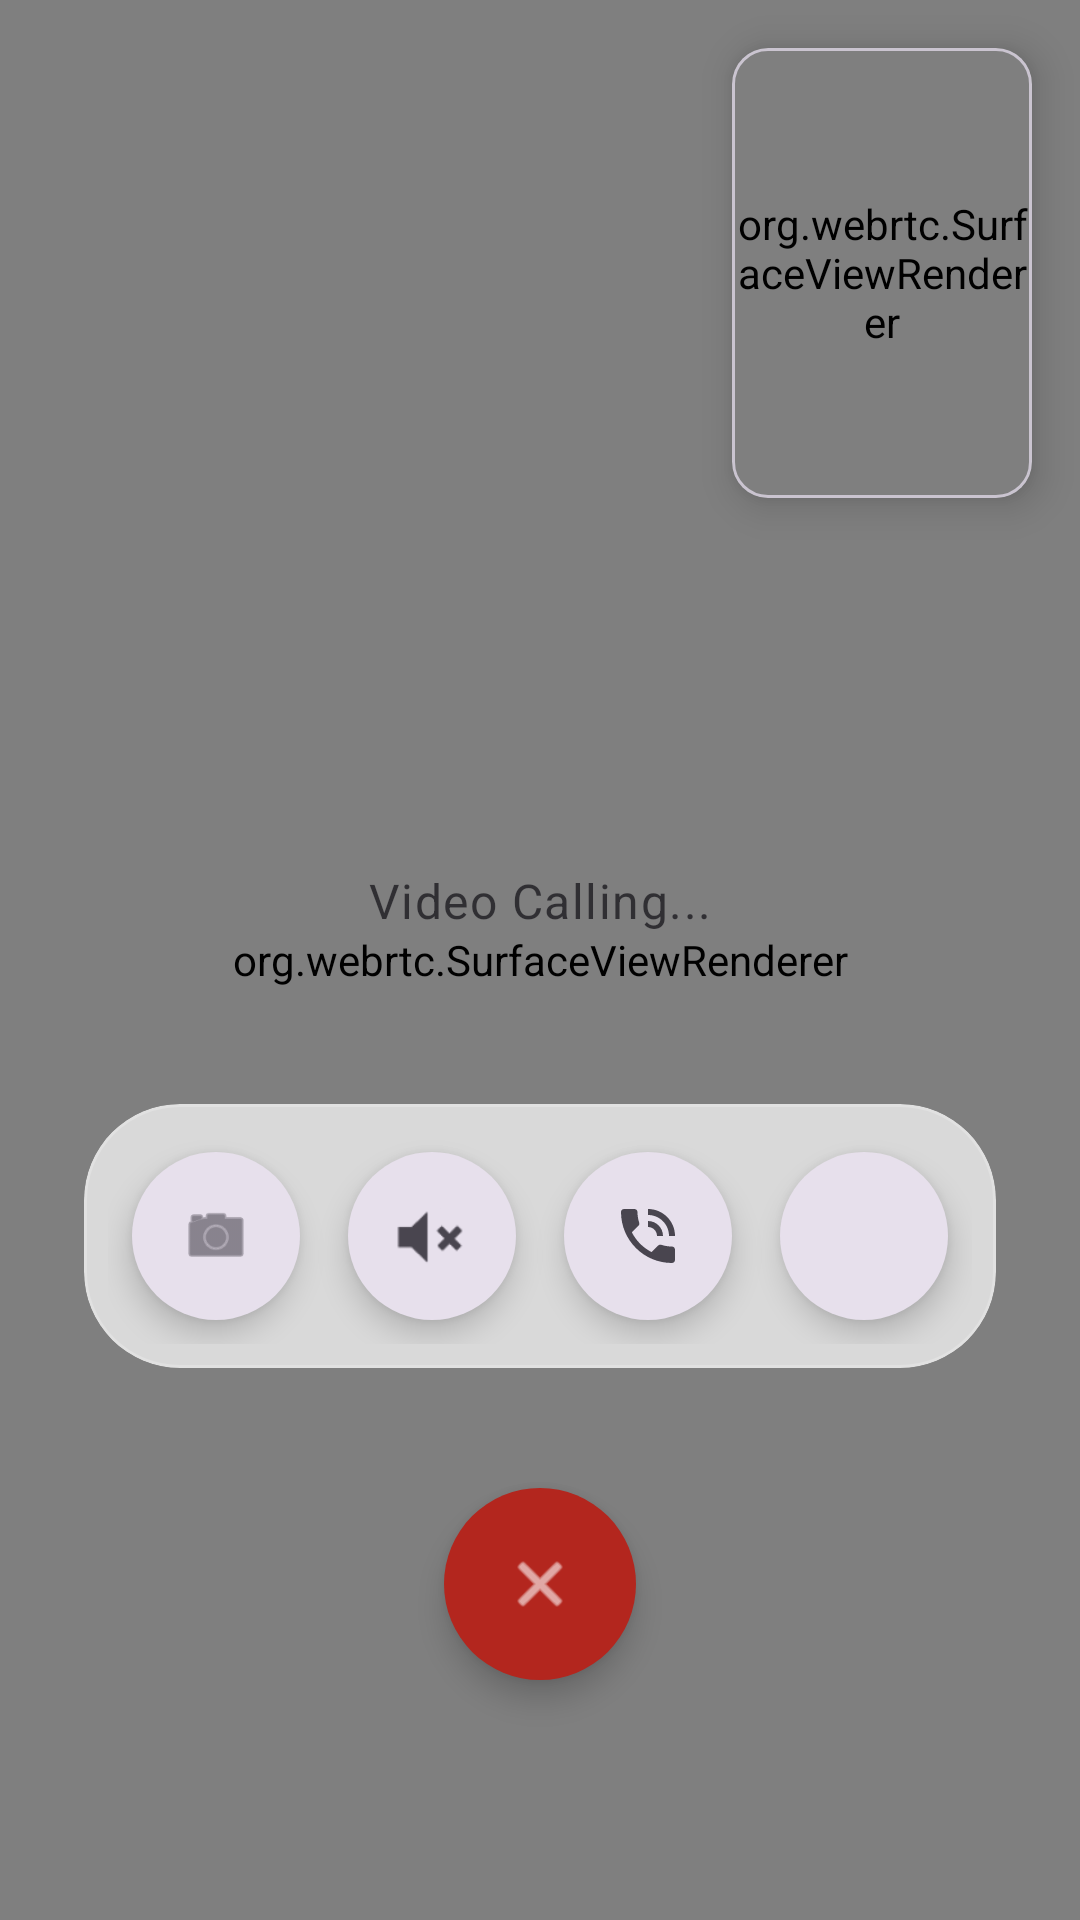

Locate icon controls on the screen. Image size 1080*1920, boxes as (x1, y1, x2, y2).
Decline: (444, 1488, 636, 1680)
Mute: (348, 1152, 516, 1320)
Speaker: (565, 1152, 731, 1320)
